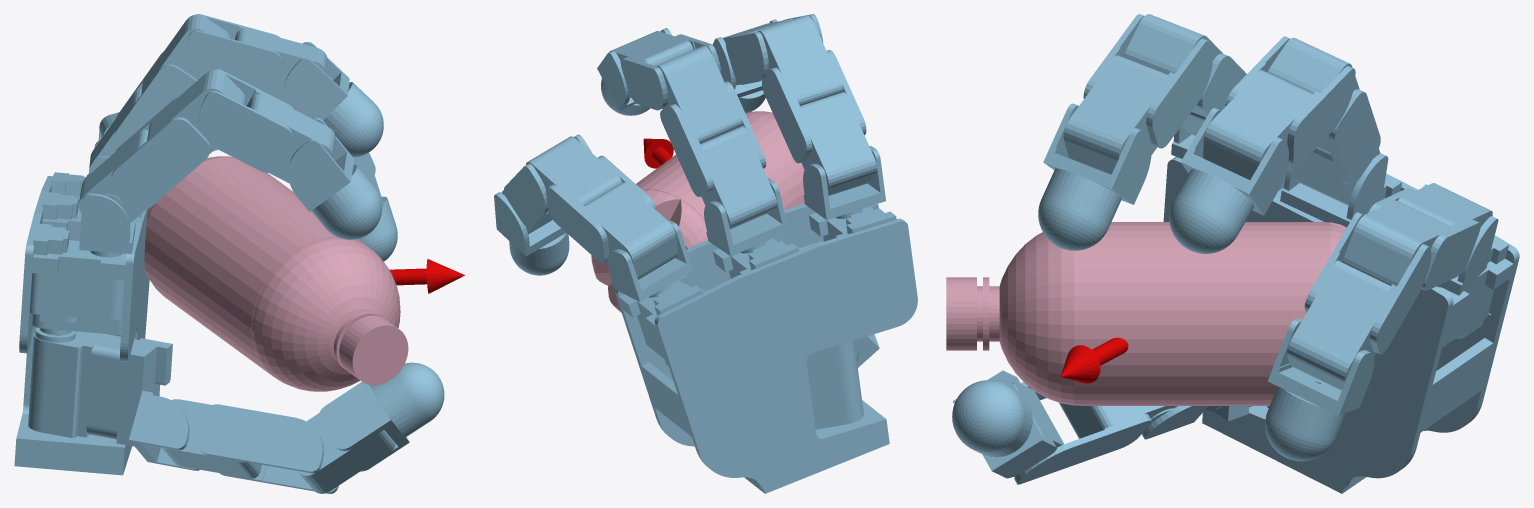
3 views of the same model, side by side, from view 1: azimuth 30°, elevation 25°; view 2: azimuth 150°, elevation 25°; view 3: azimuth 270°, elevation 25° (orthographic). The views are drawn at different scales.
Visible parts, largest first — view 1: world, water_bottle.stl; view 2: world, water_bottle.stl; view 3: world, water_bottle.stl.
Part boxes in pixels (box(x1,y1,x2,y2)): world: box(14, 14, 464, 493); water_bottle.stl: box(144, 156, 408, 391); world: box(494, 14, 917, 493); water_bottle.stl: box(591, 111, 804, 312); world: box(952, 14, 1519, 493); water_bottle.stl: box(946, 222, 1346, 405).
Bounding box in the file's own units: 0.1752 × 0.1724 × 0.1877.
